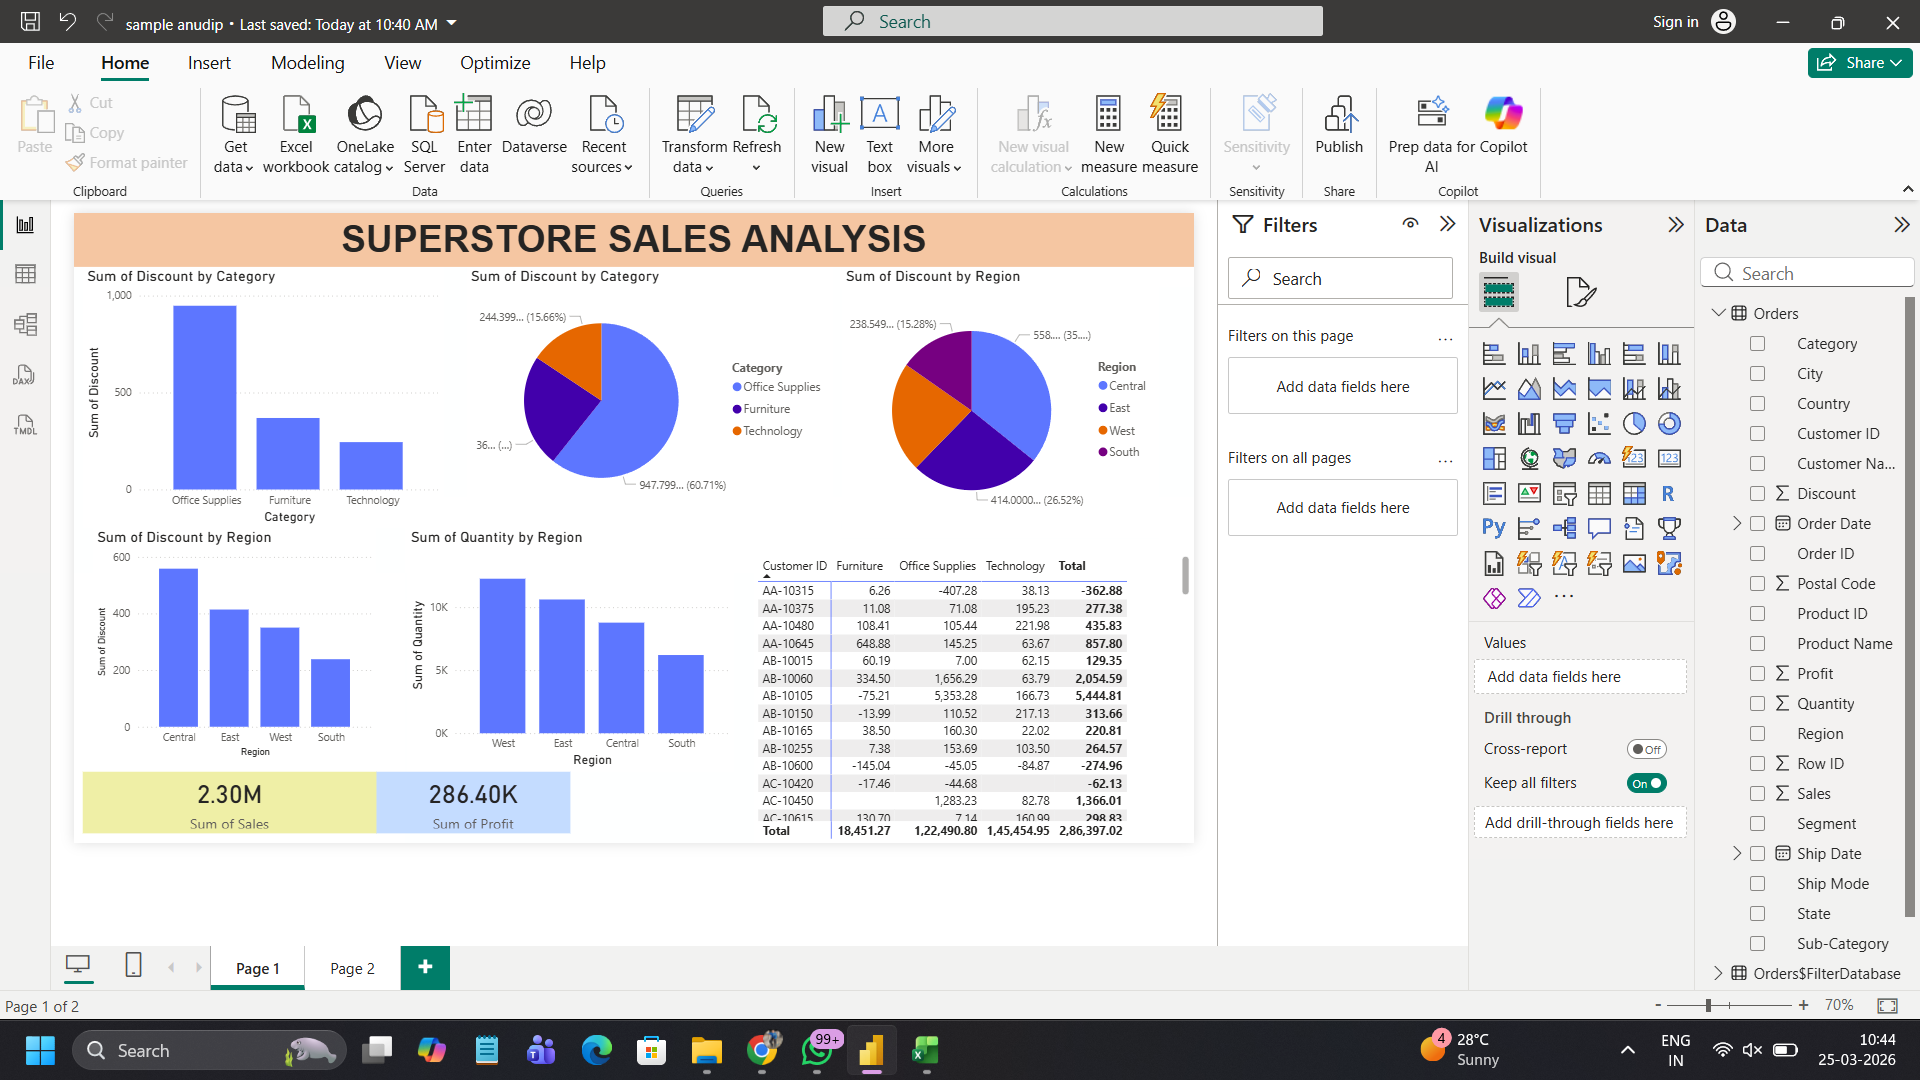

Layout of this report page (visuals, bound fields, positions):
{"tool":"powerbi","page":{"name":"Page 1","canvas":[1280,720],"ordinal":0},"visuals":[{"type":"columnChart","fields":{"Category":["Orders.Category"],"Y":["Sum(Orders.Discount)"]},"box":[10,61.4,412.9,298.6],"z":0},{"type":"pieChart","fields":{"Category":["Orders.Category"],"Y":["Sum(Orders.Discount)"]},"box":[448.6,61.4,418.6,287.1],"z":1000},{"type":"columnChart","fields":{"Category":["Orders.Region"],"Y":["Sum(Orders.Discount)"]},"box":[21.4,360,324.3,267.1],"z":2000},{"type":"pieChart","fields":{"Category":["Orders.Region"],"Y":["Sum(Orders.Discount)"]},"box":[877.1,61.4,362.9,310],"z":3000},{"type":"columnChart","fields":{"Category":["Orders.Region"],"Y":["Sum(Orders.Quantity)"]},"box":[380,360,374.3,278.6],"z":4000},{"type":"pivotTable","fields":{"Rows":["Orders.Customer ID"],"Columns":["Orders.Category"],"Values":["Sum(Orders.Profit)"]},"box":[777.1,387.1,502.9,332.9],"z":5000},{"type":"card","fields":{"Values":["Sum(Orders.Sales)"]},"box":[10,638.6,335.7,70],"z":6000},{"type":"card","fields":{"Values":["Sum(Orders.Profit)"]},"box":[345.7,638.6,221.4,70],"z":7000},{"type":"textbox","box":[0,0,1280,61.4],"z":7001}]}

Visuals, with their boxes on the page's 1280x720 design canvas (x1, y1, x2, y2). These are canvas units, not pixel positions in the 1920x1080 screenshot, which may show the page scaled, cropped or inside an application window:
columnChart - Orders.Category x Sum(Orders.Discount): <region>10, 61, 423, 360</region>
pieChart - Orders.Category x Sum(Orders.Discount): <region>449, 61, 867, 348</region>
columnChart - Orders.Region x Sum(Orders.Discount): <region>21, 360, 346, 627</region>
pieChart - Orders.Region x Sum(Orders.Discount): <region>877, 61, 1240, 371</region>
columnChart - Orders.Region x Sum(Orders.Quantity): <region>380, 360, 754, 639</region>
pivotTable - Orders.Customer ID x Orders.Category: <region>777, 387, 1280, 720</region>
card - Sum(Orders.Sales): <region>10, 639, 346, 709</region>
card - Sum(Orders.Profit): <region>346, 639, 567, 709</region>
textbox: <region>0, 0, 1280, 61</region>
